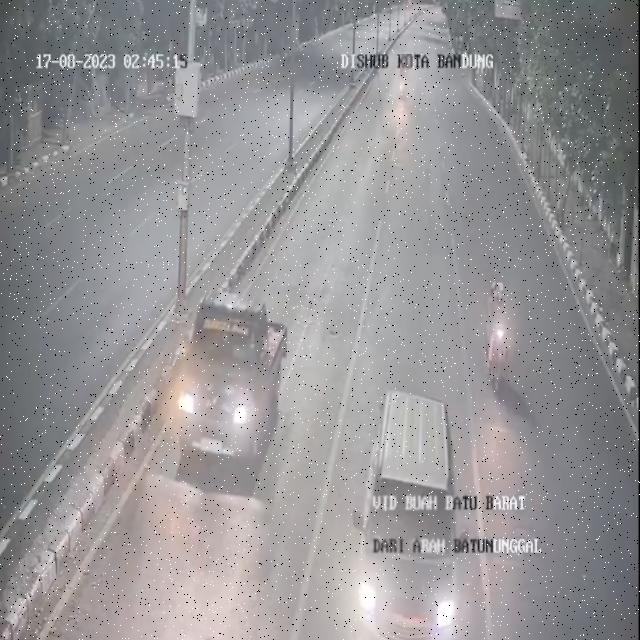cars: (355, 388, 463, 637)
motorcycle: (482, 278, 513, 399), (400, 54, 412, 103)
truck: (180, 289, 287, 486)
